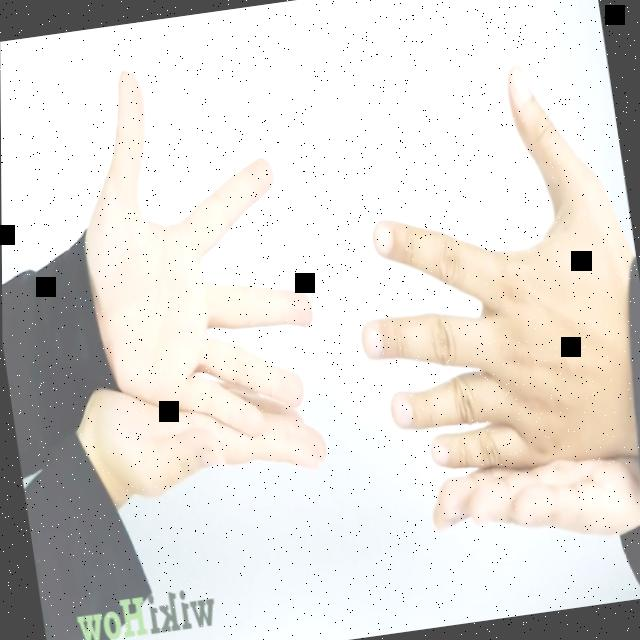Paper: (324, 50, 640, 492), (61, 48, 331, 454)
